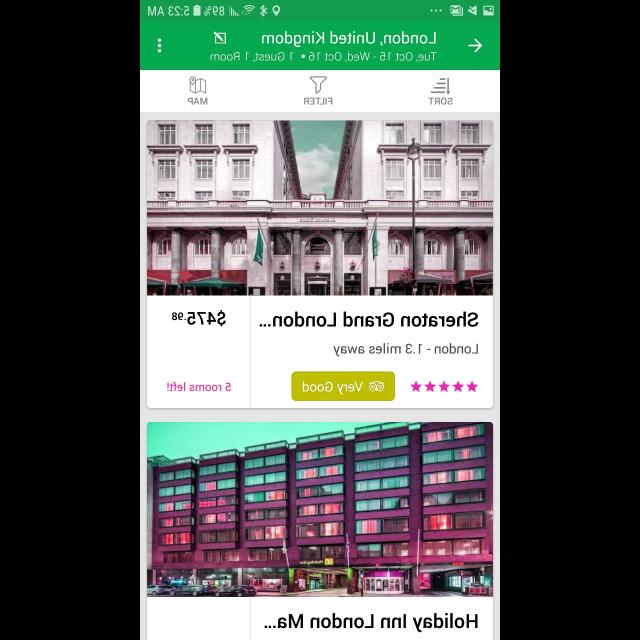icon: (410, 380, 478, 392), (430, 77, 450, 95), (189, 76, 207, 94), (468, 38, 484, 54), (214, 32, 226, 44), (158, 36, 162, 54)
image: (148, 120, 492, 296), (147, 422, 493, 596), (309, 75, 327, 93)
text: (264, 613, 478, 633), (260, 311, 478, 327), (262, 32, 436, 48), (210, 52, 438, 64), (334, 343, 478, 357), (172, 310, 226, 326), (167, 381, 231, 391), (303, 96, 333, 104), (428, 96, 454, 105), (187, 97, 207, 105)
textbutton: (291, 371, 395, 401)
uppertaskbar: (140, 1, 500, 22)
